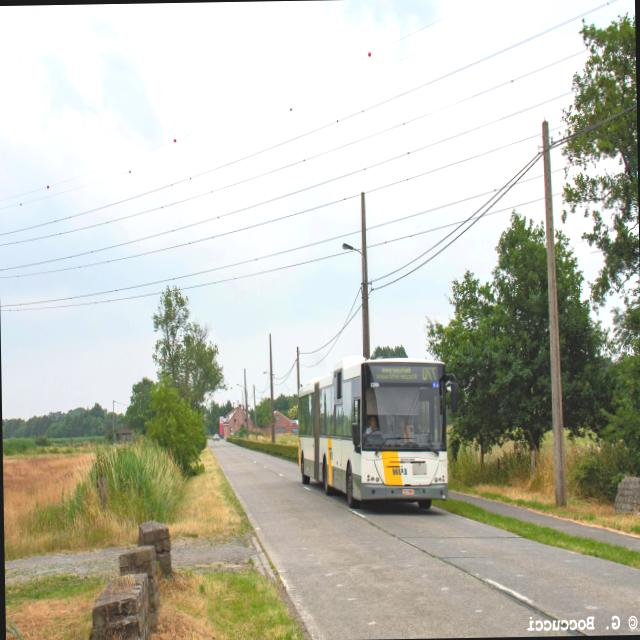bus-number: (422, 365, 438, 381)
